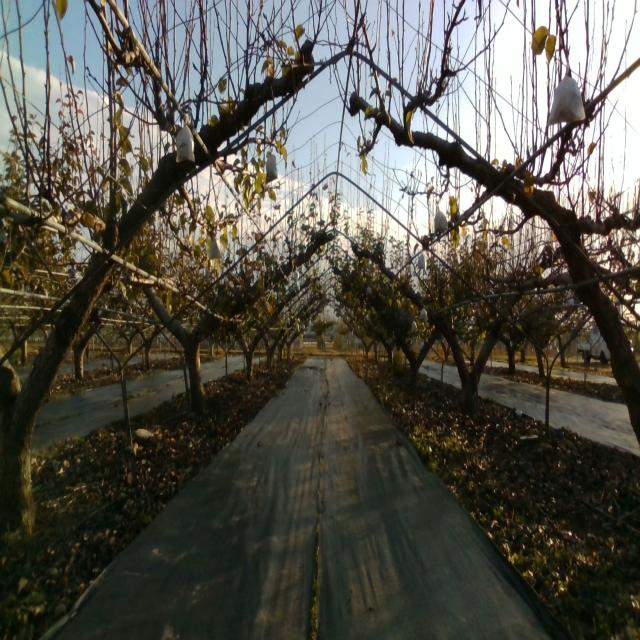pearbags: (547, 61, 586, 126), (175, 115, 195, 163), (264, 153, 279, 183), (207, 234, 224, 260), (434, 203, 448, 233)
